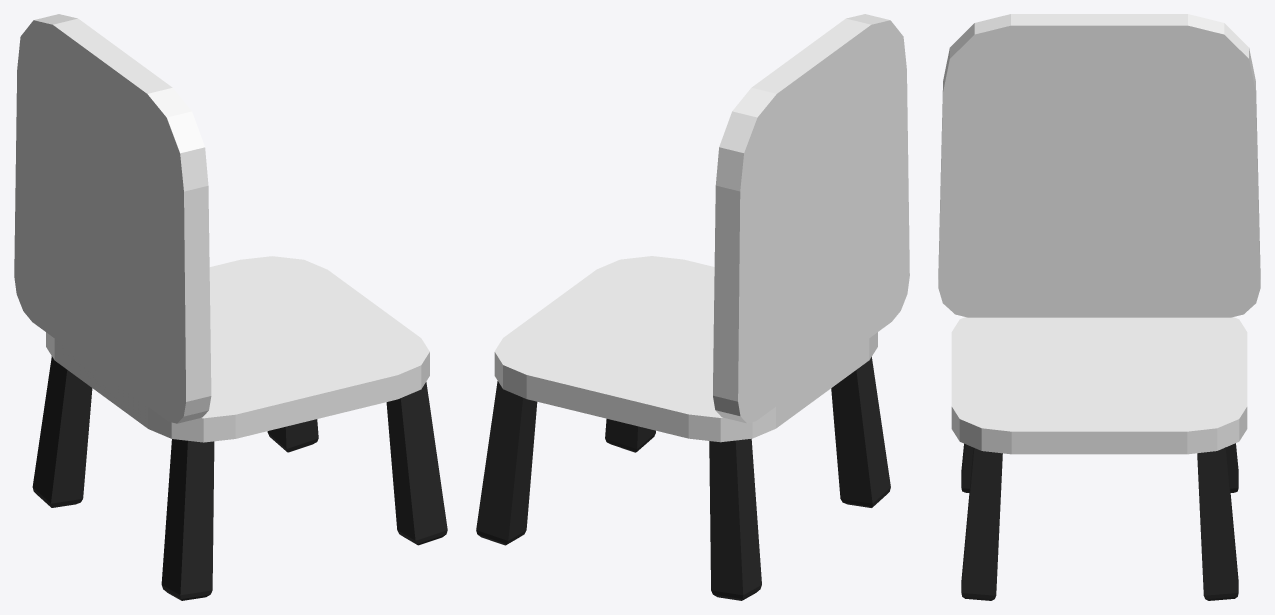
The model's file is Chair_7.fbx.
3 renders of one model, left to right at view 1: azimuth 30°, elevation 25°; view 2: azimuth 150°, elevation 25°; view 3: azimuth 270°, elevation 25°, orthographic. The views are drawn at different scales.
Visible parts, largest first — view 1: Chair_7; view 2: Chair_7; view 3: Chair_7.
Part boxes in pixels (left/top/right/bottom): Chair_7: left=14, top=14, right=447, bottom=600; Chair_7: left=476, top=14, right=909, bottom=600; Chair_7: left=938, top=14, right=1260, bottom=600.
Bounding box in the file's own units: 0.3307 × 0.5717 × 0.3588.
